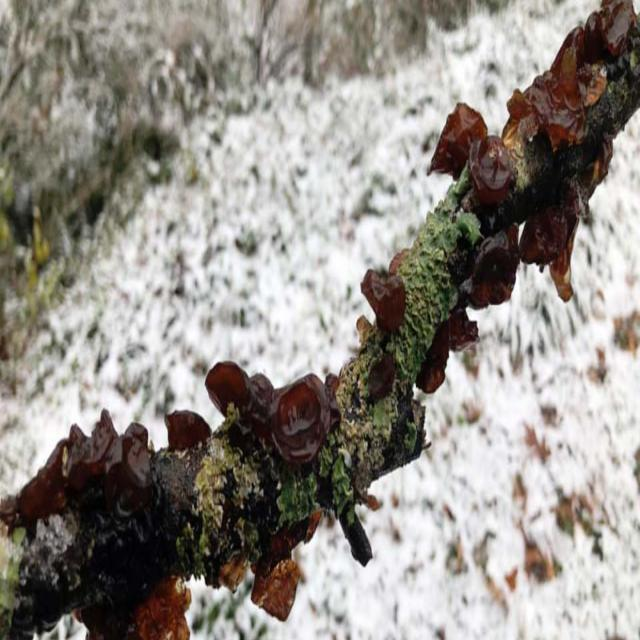Matang: (513, 3, 637, 150), (4, 415, 153, 533), (204, 353, 338, 474), (521, 152, 614, 303), (432, 103, 511, 205), (359, 266, 408, 414), (418, 302, 480, 403), (470, 218, 518, 316), (249, 556, 305, 624), (160, 409, 217, 467)
